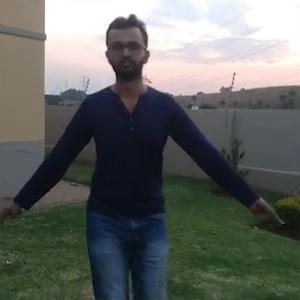land: (46, 71, 195, 282)
